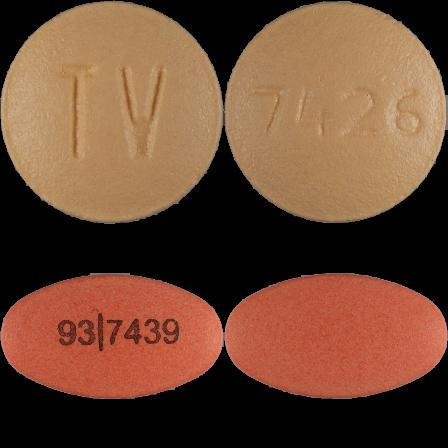0093-7426: (0, 0, 224, 224)
